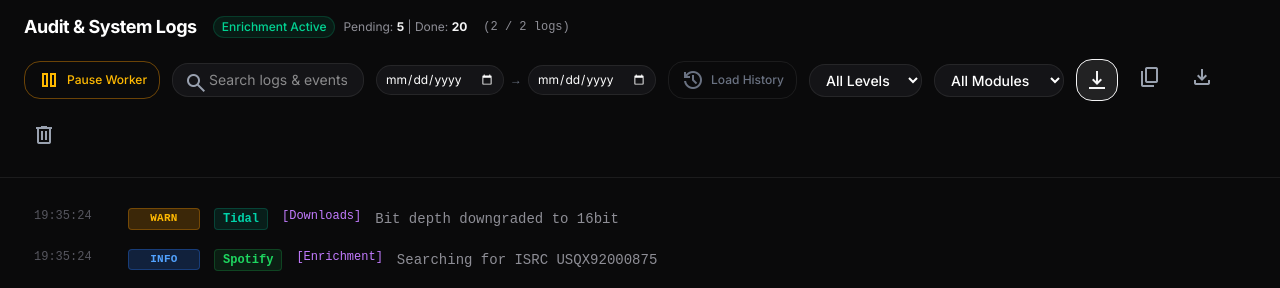
Test: LogsView.vue › filters logs by search query in real-time
This screenshot has width=1280, height=288.
In the field with placeholder "Search logs & events...": (268,80) [172, 63, 364, 97], type "USQX92000875"
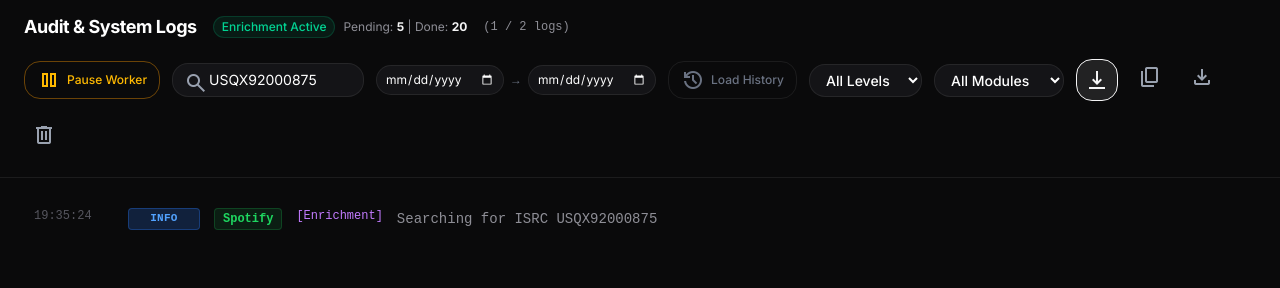
Expected: the text "Searching for ISRC USQX92000875" is shown, [397, 211, 657, 227]
Expected: the text "Bit depth downgraded" is gone
